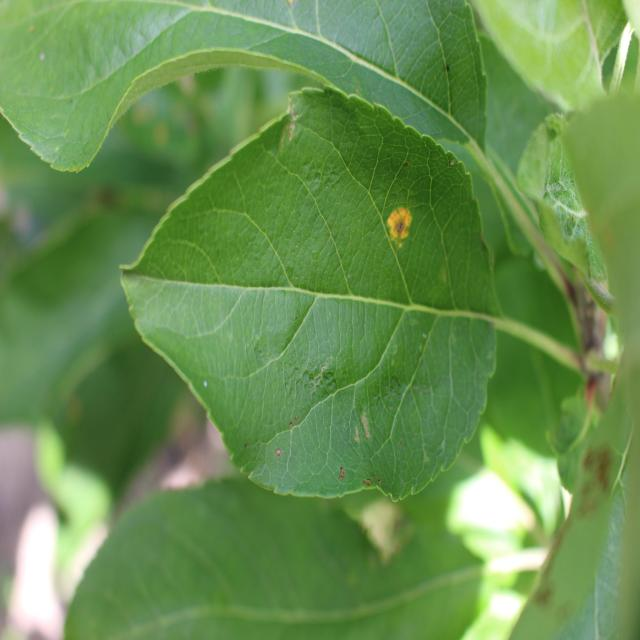Rust: (378, 202, 416, 264)
